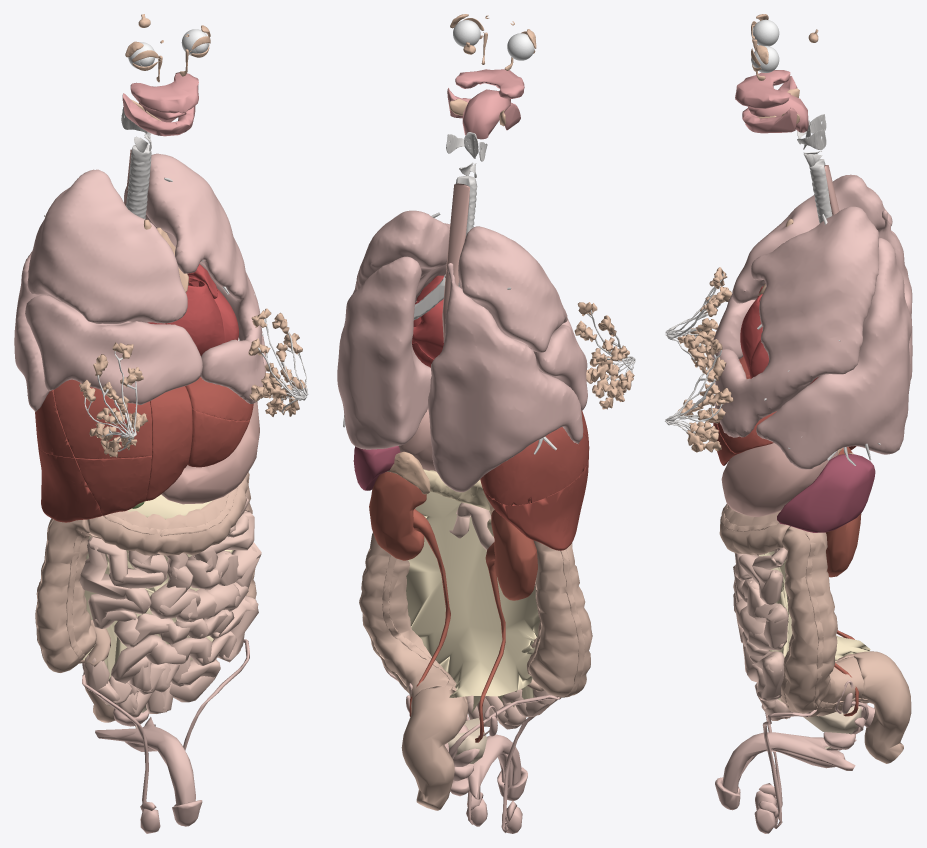
Rendered from organs.glb.
The picture shows the model from 3 angles, left to right: view 1: azimuth 30°, elevation 25°; view 2: azimuth 150°, elevation 25°; view 3: azimuth 270°, elevation 25°; orthographic projection.
Parts seen in each view (by area): view 1: Superior lobe of right lung, Superior lobe of left lung, Middle lobe of right lung, Ascending colon, Distal part of jejunum (×6), Transverse colon, Hepatovenous segment VIII, Hepatovenous segment IV, Stomach, Hepatovenous segment V, Hepatovenous segment VII, Middle part of ileum (×4) (+24 smaller); view 2: Inferior lobe of right lung, Transverse mesocolon, Inferior lobe of left lung, Superior lobe of right lung, Ascending colon, Descending colon, Rectum, Superior lobe of left lung, Hepatovenous segment IX, Left kidney, Hepatovenous segment VII, Right kidney (+23 smaller); view 3: Superior lobe of left lung, Inferior lobe of left lung, Descending colon, Stomach, Spleen, Rectum, Superior lobe of right lung, Corpus cavernosum of penis, Left mammary gland, Transverse colon, Right mammary gland, Taenia omentalis (+22 smaller).
Boxes of the visible parts, box(x1,y1,x2,y2) form: Superior lobe of right lung: box(27, 169, 187, 323); Superior lobe of left lung: box(146, 153, 265, 403); Middle lobe of right lung: box(25, 295, 202, 404); Ascending colon: box(36, 519, 96, 672); Distal part of jejunum (×6): box(79, 536, 200, 618); Transverse colon: box(87, 473, 248, 555); Hepatovenous segment VIII: box(53, 379, 152, 458); Hepatovenous segment IV: box(145, 386, 192, 501); Stomach: box(161, 402, 259, 504); Hepatovenous segment V: box(75, 455, 151, 515); Hepatovenous segment VII: box(38, 445, 99, 522); Middle part of ileum (×4): box(111, 631, 236, 678); Inferior lobe of right lung: box(428, 263, 583, 492); Transverse mesocolon: box(406, 491, 539, 697); Inferior lobe of left lung: box(337, 256, 431, 449); Superior lobe of right lung: box(458, 226, 567, 352); Ascending colon: box(529, 540, 592, 696); Descending colon: box(359, 507, 468, 714); Rectum: box(401, 686, 467, 810); Superior lobe of left lung: box(353, 210, 450, 302); Hepatovenous segment IX: box(487, 427, 589, 505); Left kidney: box(369, 472, 426, 560); Hepatovenous segment VII: box(485, 457, 588, 550); Right kidney: box(491, 510, 537, 600); Superior lobe of left lung: box(715, 206, 878, 437); Inferior lobe of left lung: box(756, 238, 911, 469); Descending colon: box(780, 526, 864, 717); Stomach: box(721, 443, 837, 516); Spleen: box(777, 454, 875, 532); Rectum: box(853, 651, 911, 763); Superior lobe of right lung: box(732, 174, 892, 303); Corpus cavernosum of penis: box(722, 732, 856, 792); Left mammary gland: box(678, 339, 733, 452); Transverse colon: box(719, 505, 789, 555); Right mammary gland: box(677, 267, 731, 370); Taenia omentalis: box(720, 504, 868, 708).
Bounding box in the file's own units: 0.251 × 0.8463 × 0.2389.
